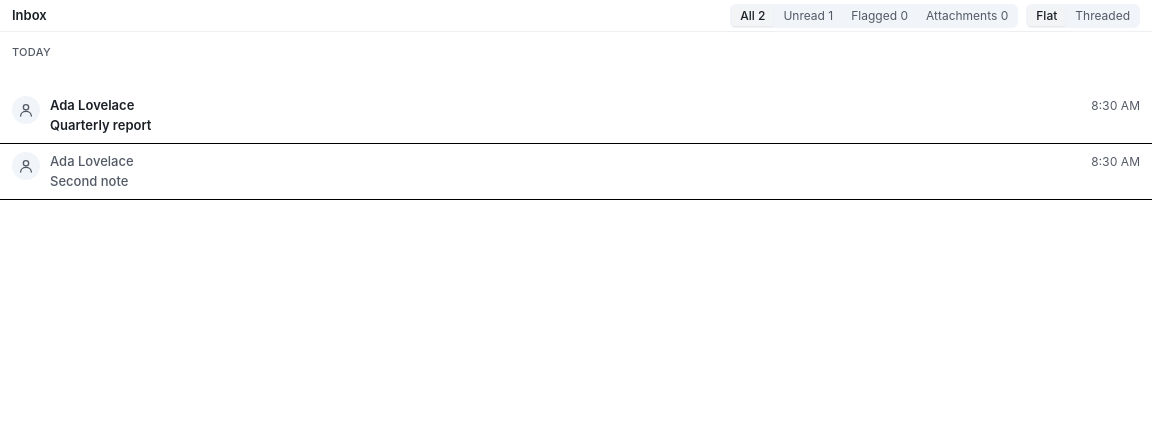
it: the row context menu › keeps a multi-selection as the targets when the click lands inside it
Click the text "Quarterly report" at coordinates (101, 125), box [50,116,151,135]
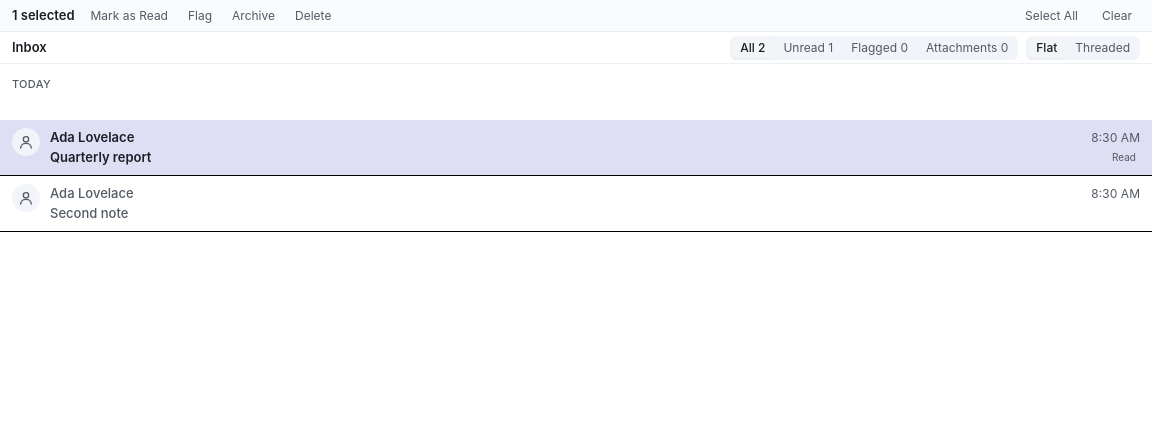
Click the text "Second note" at coordinates (89, 213), box [50,204,128,223]
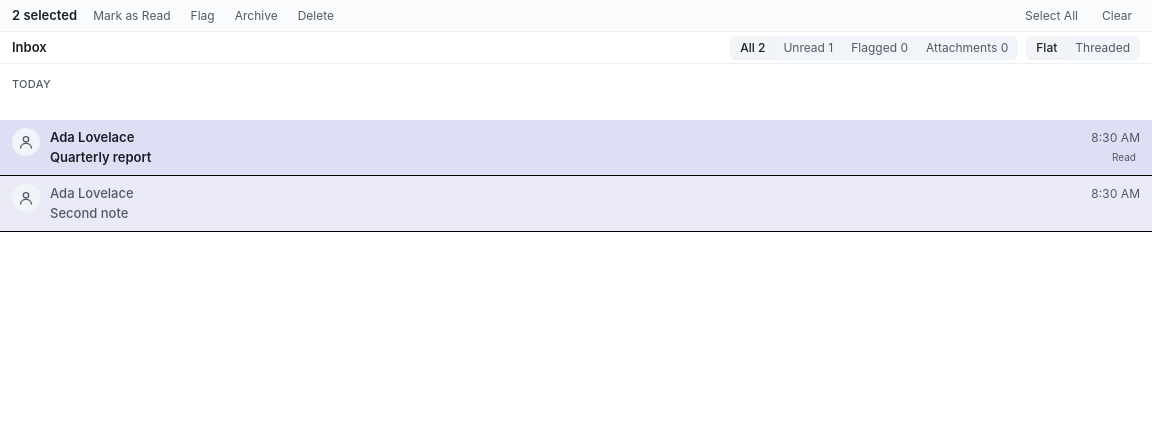
Right-click the option "Ada Lovelace 8:30 AM Second note" at coordinates (92, 193), box [0,176,1151,232]
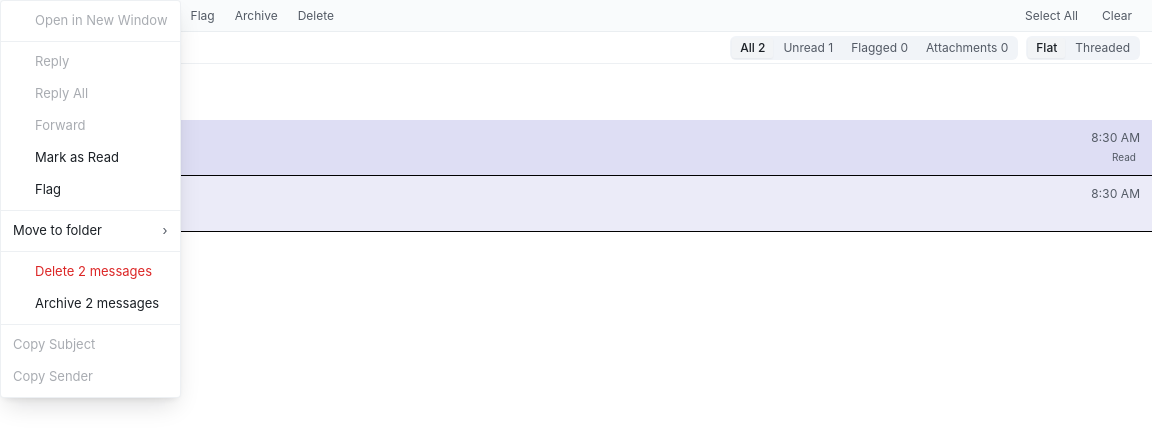
Check: the menu item "Archive 2 messages" is shown, box [35,295,159,311]
Check: the menu item "Delete 2 messages" is shown, box [35,263,152,279]
